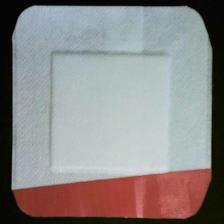Dressing: (8, 3, 216, 222)
Red_T: (10, 166, 218, 222)
